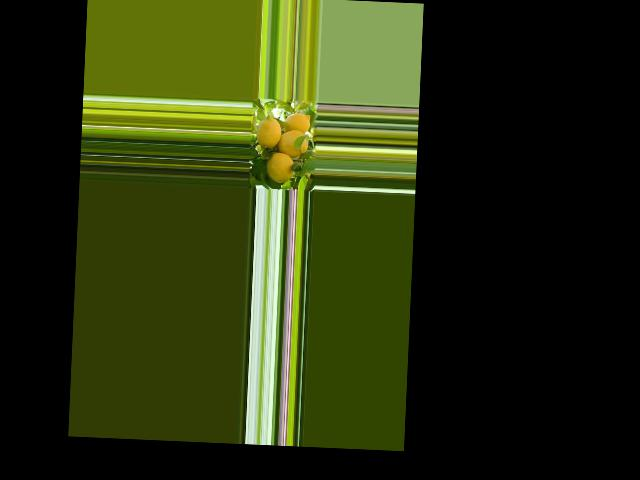lemon: (264, 151, 298, 185)
